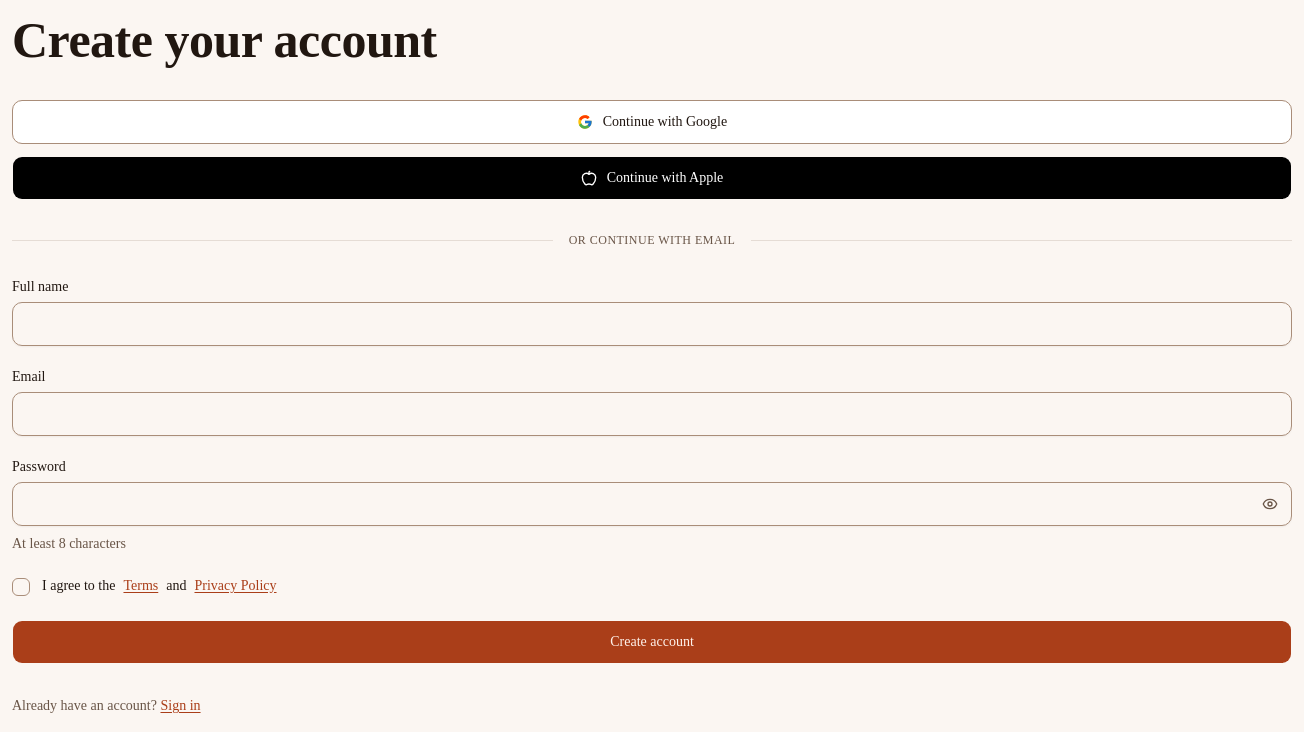
Test: SignUpForm › shows the weak-password copy from Firebase at submit time
The width and height of the screenshot is (1304, 732).
Type "Sarah Cole" into the field labelled "Full name" at (652, 324), box [12,302,1292,346]
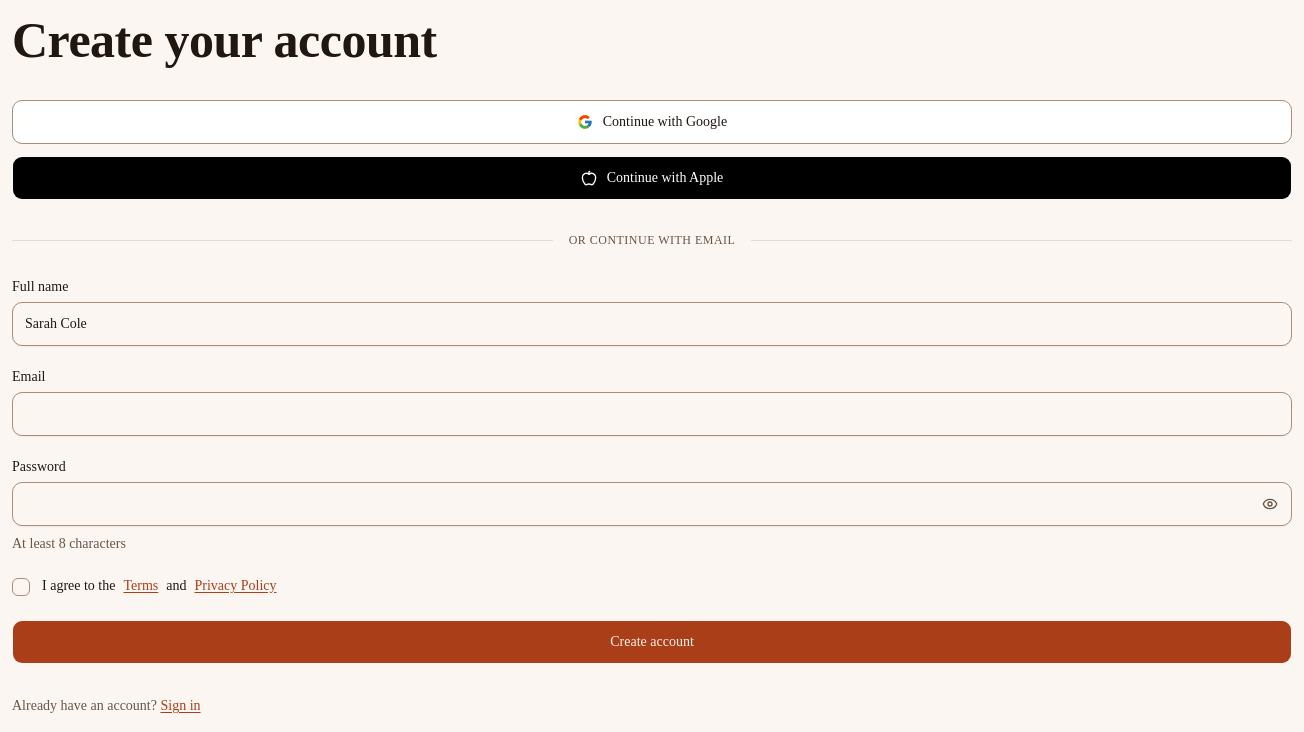
Type "sarah@example.com" into the field labelled "Email" at (652, 414), box [12,392,1292,436]
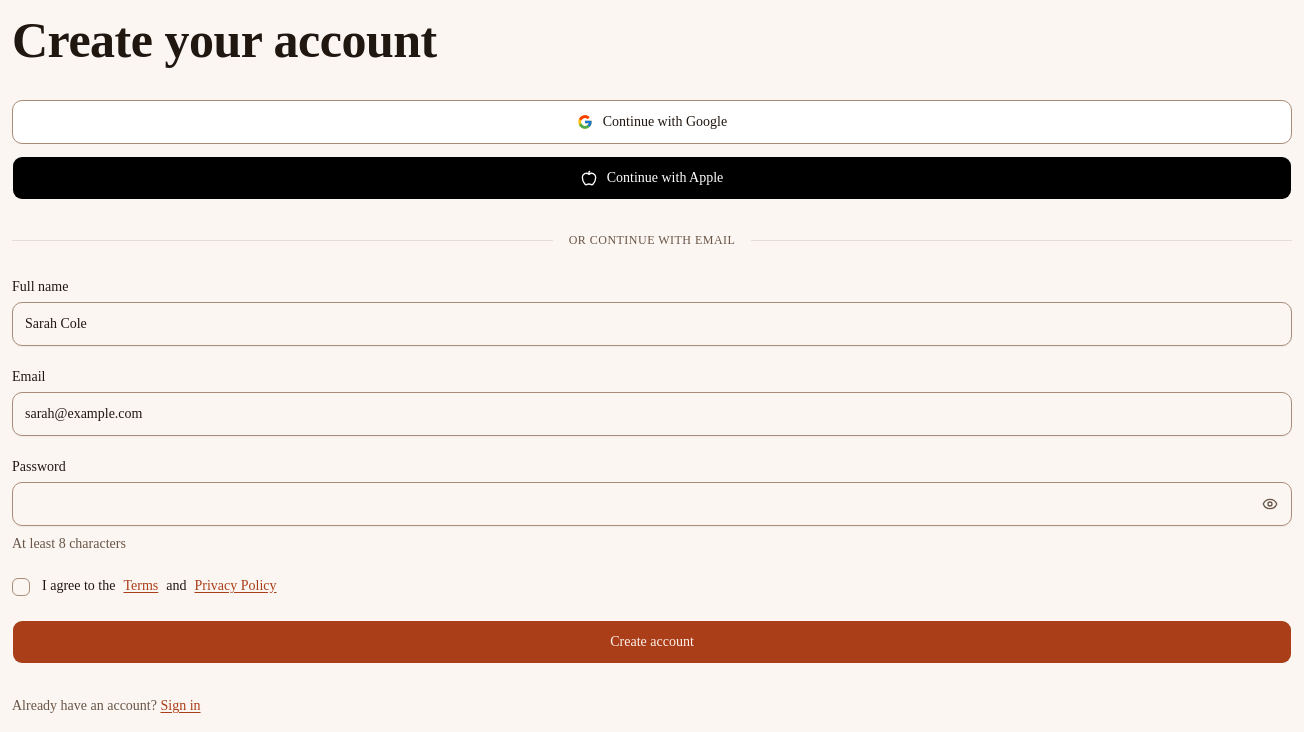
Type "longenough1" into the password field labelled "Password" at (652, 504), box [12,482,1292,526]
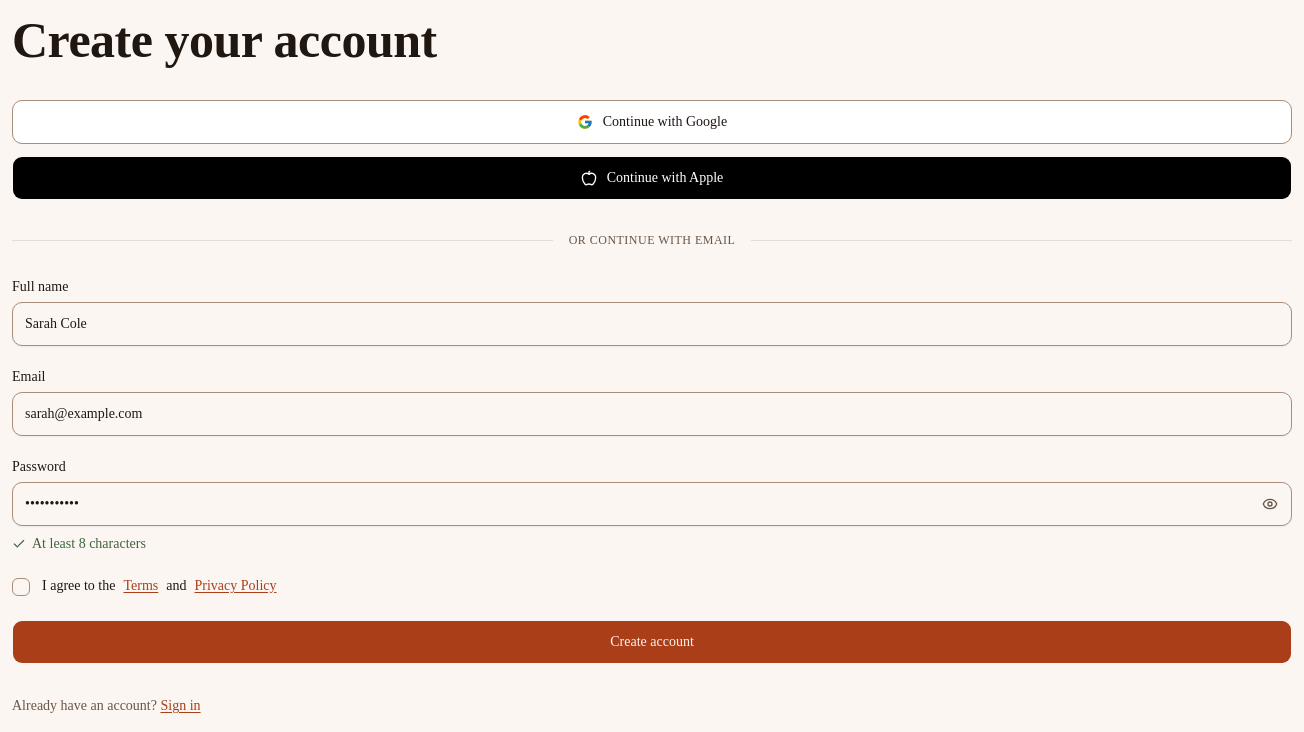
Click the checkbox at (21, 587), box [12,578,30,596]
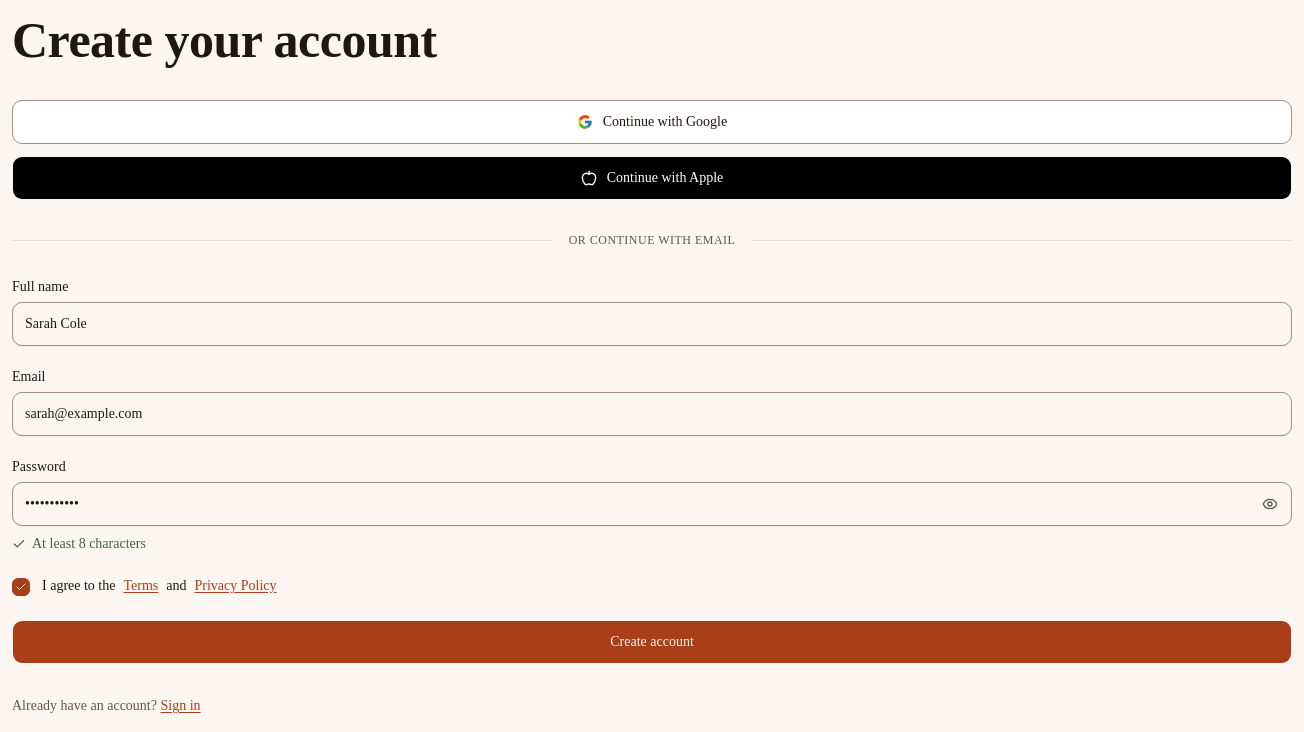
Click the button "Create account" at (652, 642), box [12,620,1292,664]
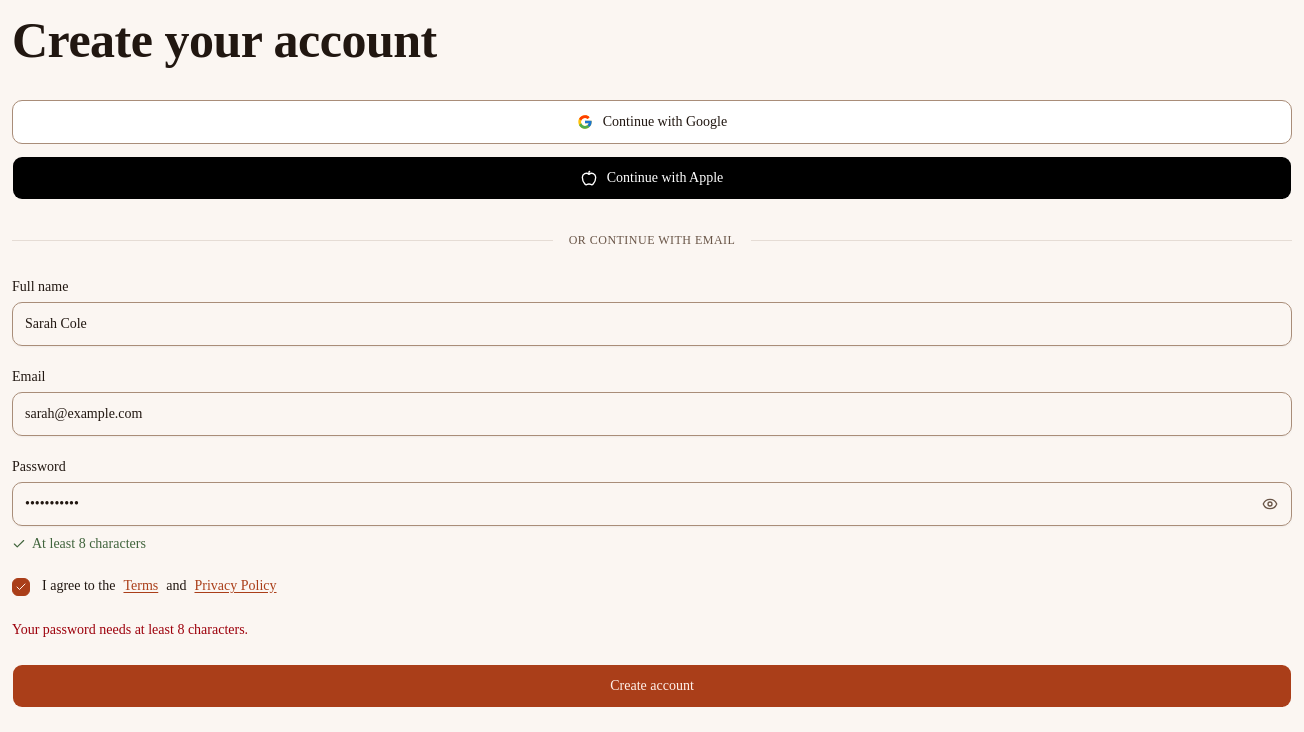
Expected: the text "Your password needs at least 8 characters." is shown, [12,622,248,637]
